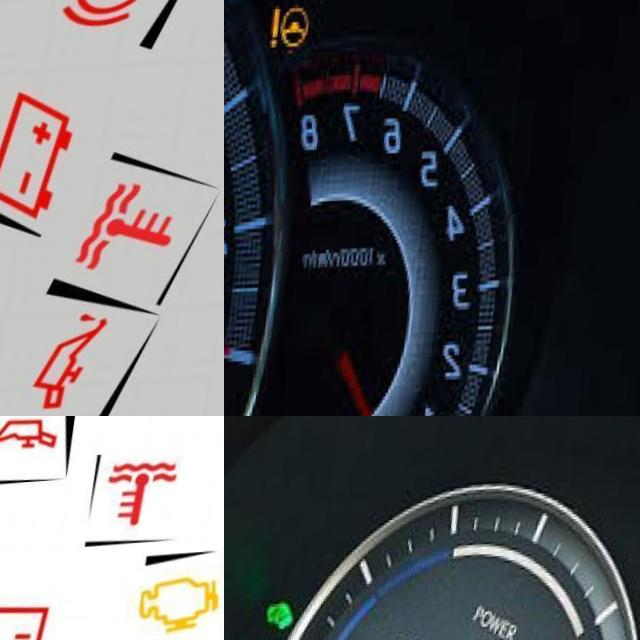Electronic Power Steering: (271, 5, 317, 55)
